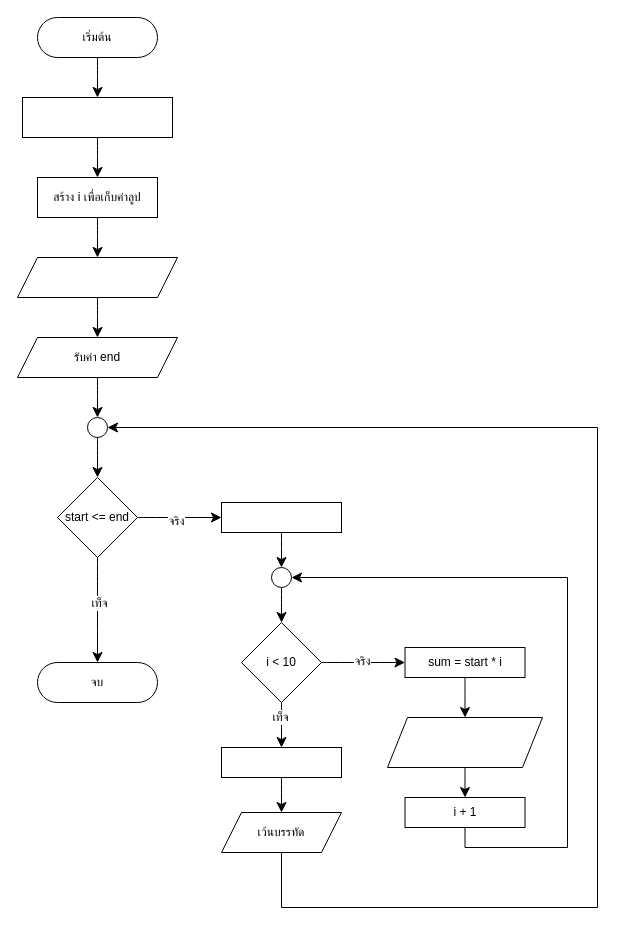
This 625x935 diagram has some shape labels left out. The box of each missing label's shape, as (x1, y1, x2, y2) in pixels:
i = 1: (220, 502, 342, 532)
start + 1: (220, 746, 342, 778)
รับค่า start: (16, 256, 178, 298)
สร้าง start, end มารับข้อมูลจากผู้ใช้: (22, 96, 172, 138)
แสดง start x i = sum: (386, 716, 542, 768)
